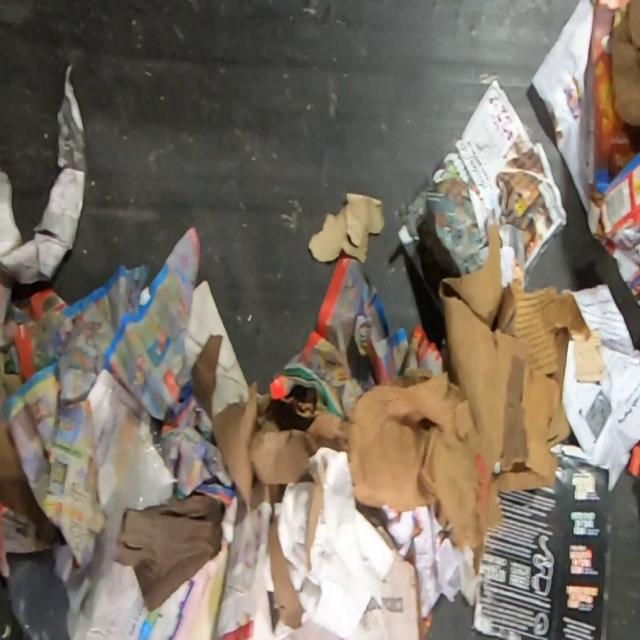cardboard: (190, 220, 606, 630), (470, 440, 614, 640), (111, 490, 225, 614), (0, 420, 66, 545), (608, 0, 640, 129)
soft_plastic: (3, 365, 182, 640), (593, 150, 640, 251)
